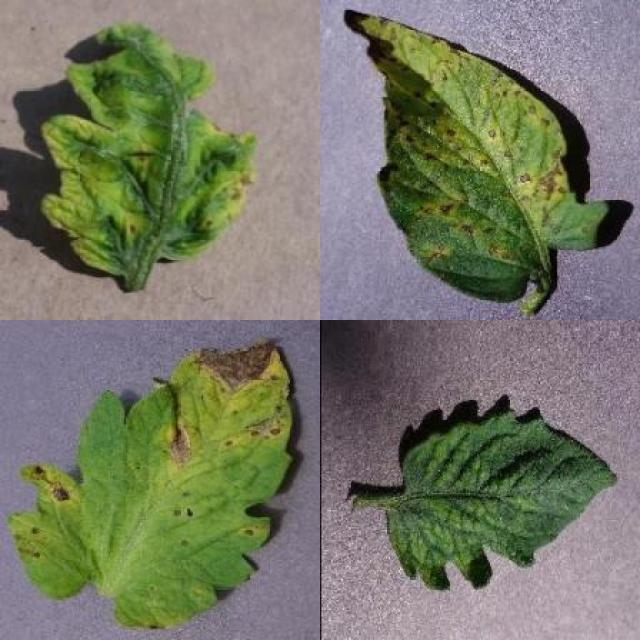Mosaic Virus: (384, 406, 622, 594)
Septoria: (9, 338, 294, 632), (343, 10, 610, 300)
Yellow Leaf Curl Virus: (42, 27, 257, 274)
